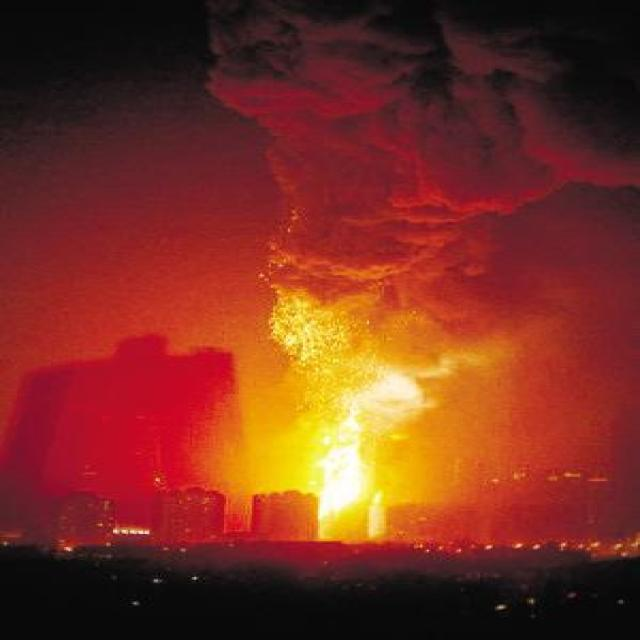fire: (253, 279, 442, 539)
smoke: (225, 29, 564, 291)
